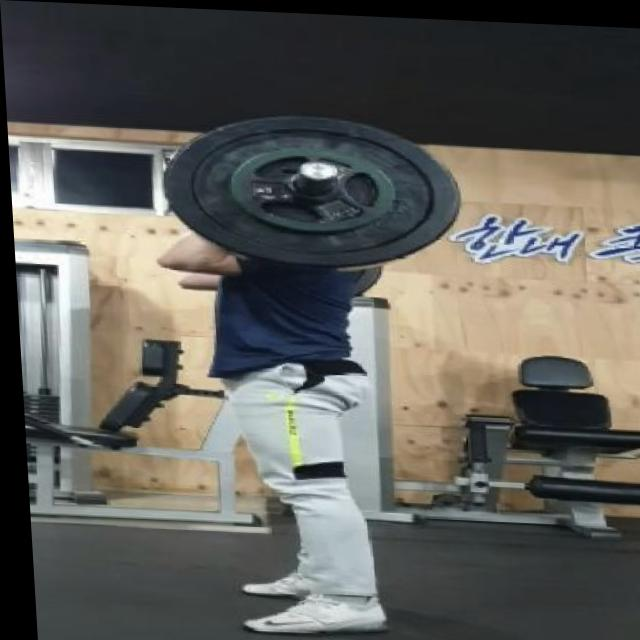barbell: (154, 103, 467, 276)
